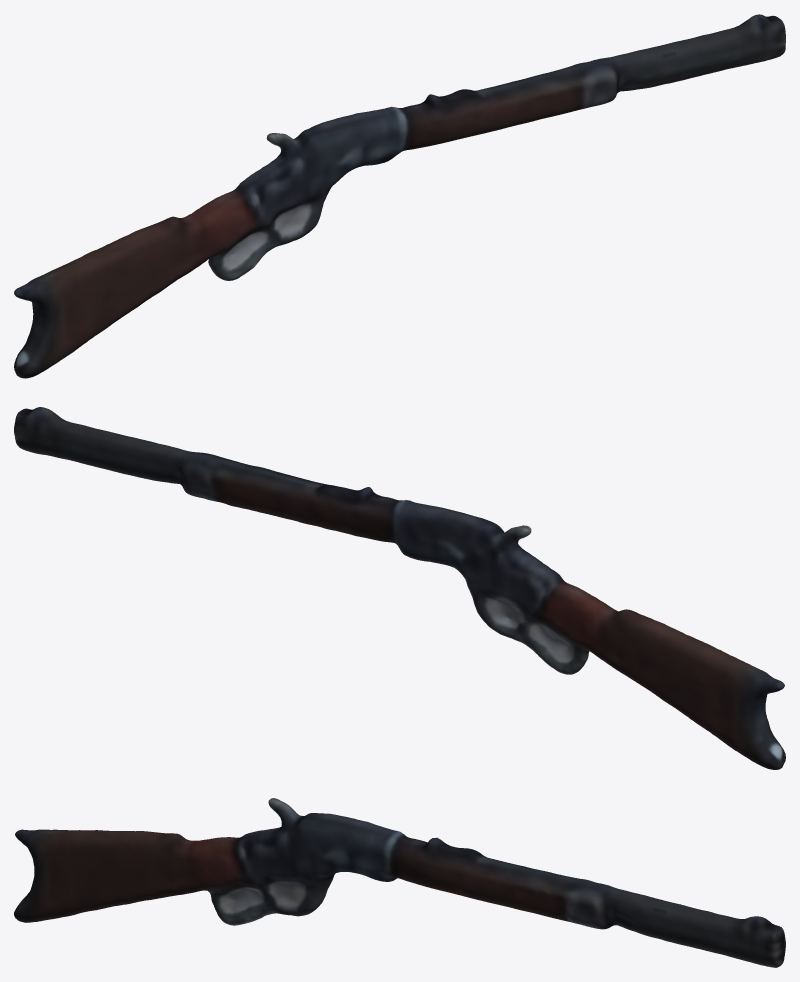
Rendered from Enforcer 12-Gauge_mesh.glb.
3 views of the same model, one above another, from view 1: azimuth 30°, elevation 25°; view 2: azimuth 150°, elevation 25°; view 3: azimuth 330°, elevation 25° (orthographic).
Visible parts, largest first — view 1: world; view 2: world; view 3: world.
Part boxes in pixels (bbox=[...]): world: bbox=[14, 14, 785, 378]; world: bbox=[14, 407, 785, 769]; world: bbox=[14, 798, 785, 967].
Size of the model in its own units: 0.595 by 0.1348 by 0.0255.
Materials: 1 (1 with a texture image).
